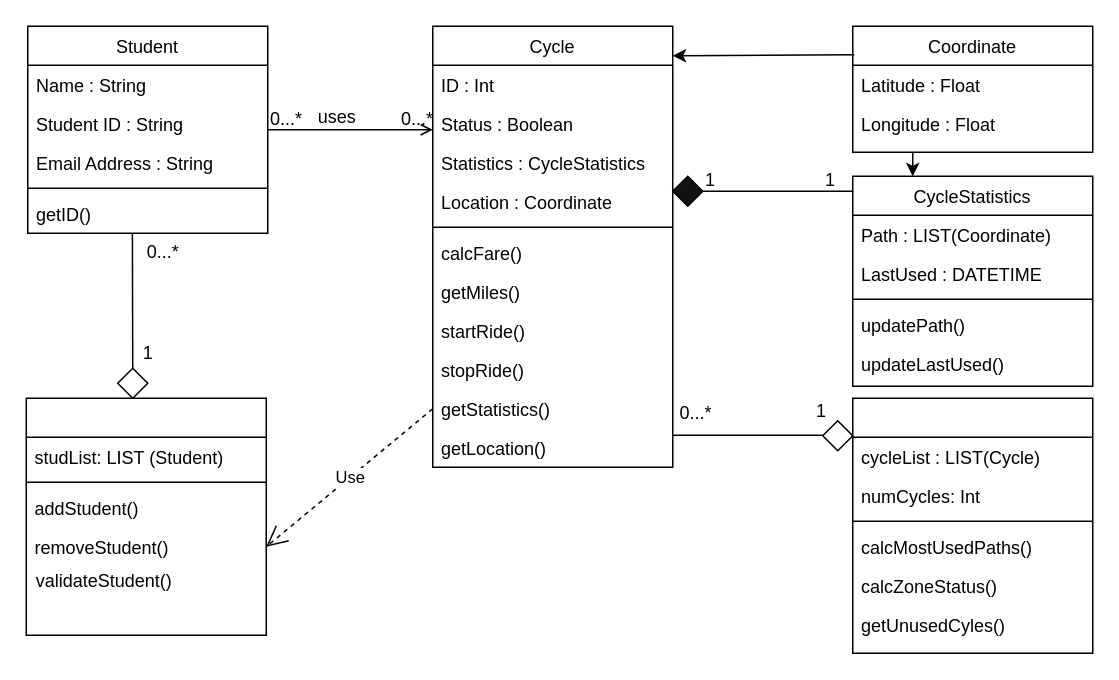
The diagram is 1119 pixels wide and 680 high, and some of its shapes have lost their labels. The shapes that lost their labels are listed below. From the top down, each one's box as (x1, y1, x2, y2) in pixels, then its label:
(25, 397, 266, 635): StudentDB
(851, 397, 1093, 653): Monitor
